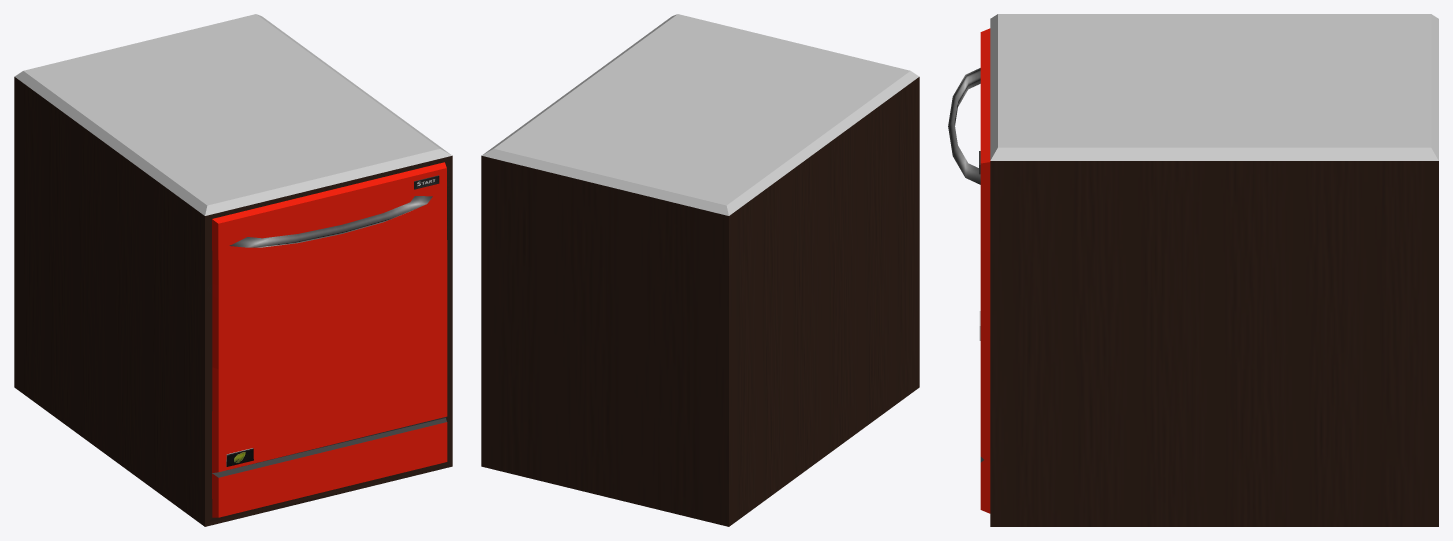
The model's file is Dishwasher_A_4.FBX.
3 renders of one model, left to right at view 1: azimuth 30°, elevation 25°; view 2: azimuth 150°, elevation 25°; view 3: azimuth 270°, elevation 25°, orthographic. The views are drawn at different scales.
Parts seen in each view (by area): view 1: Dishwasher_1; view 2: Dishwasher_1; view 3: Dishwasher_1.
Boxes of the visible parts, x1,y1,x2,y2 form: Dishwasher_1: [14, 14, 452, 526]; Dishwasher_1: [481, 14, 919, 526]; Dishwasher_1: [948, 14, 1438, 526].
Size of the model in its own units: 112 by 138 by 164.
